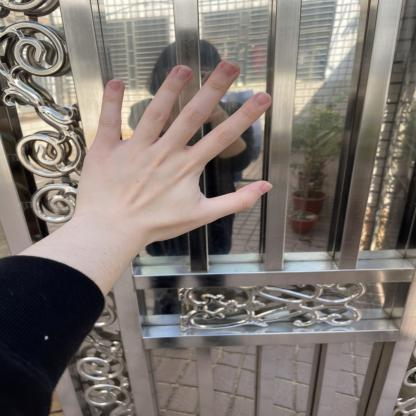bare_hand: (70, 48, 296, 262)
